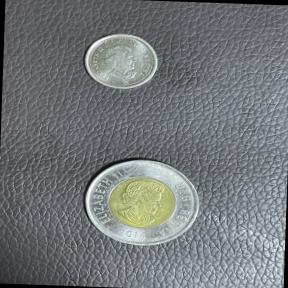coin: (74, 152, 206, 251), (77, 29, 164, 94)
